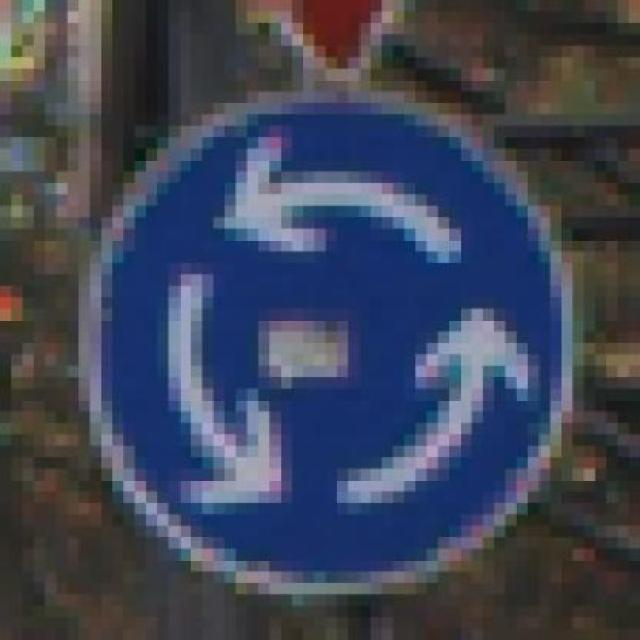Round-About: (67, 68, 607, 618)
